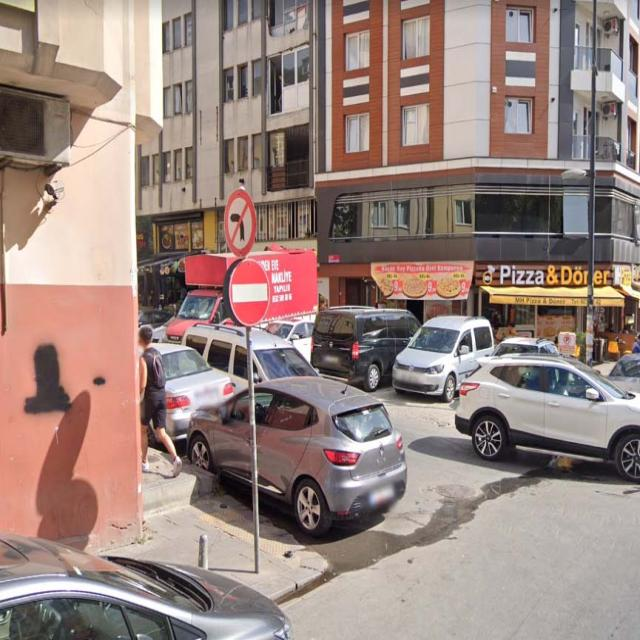girisyok: (230, 259, 270, 325)
soladonulmez: (224, 191, 256, 257)
